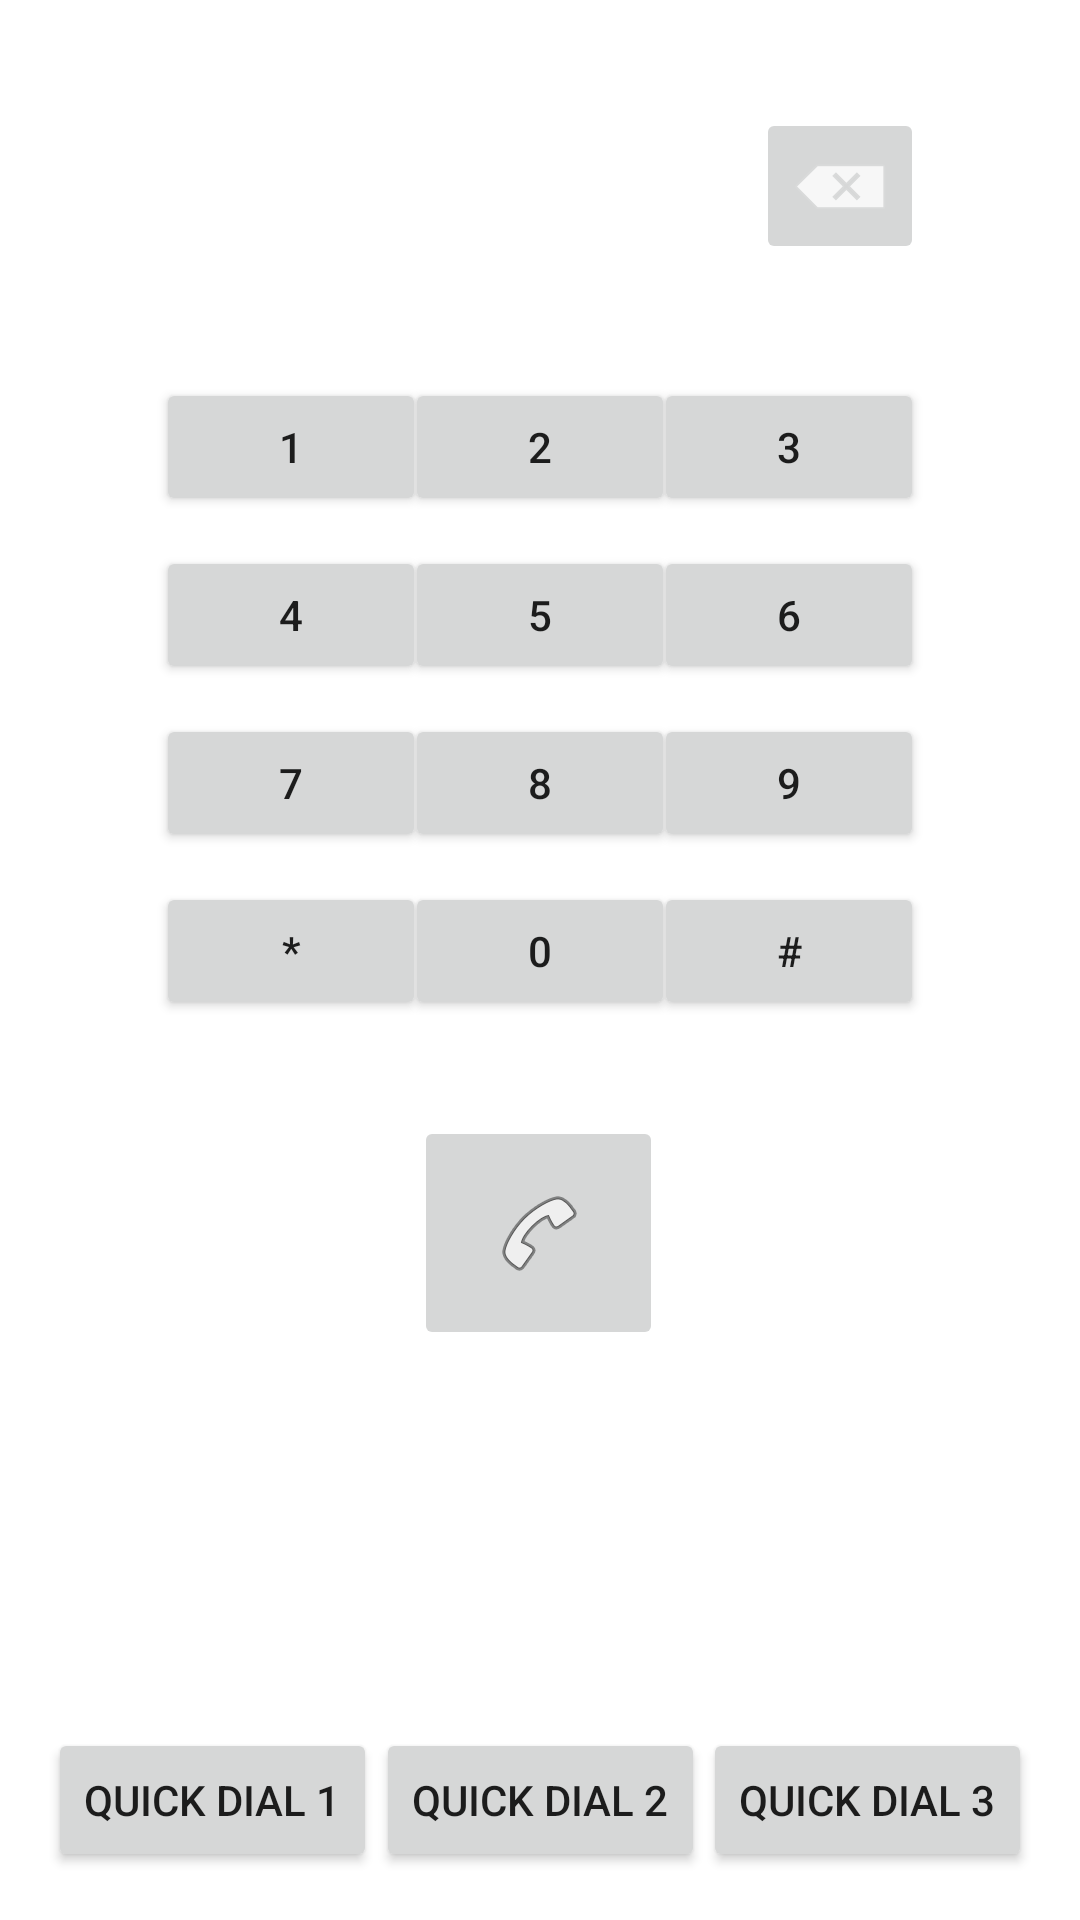

Icon bounding boxes for this 1080w x 1920h phone screenshot, format {"left": x1, "top": y1, "right": x2, "bottom": y2}:
Call: {"left": 426, "top": 1134, "right": 651, "bottom": 1332}
delete: {"left": 768, "top": 126, "right": 912, "bottom": 246}
